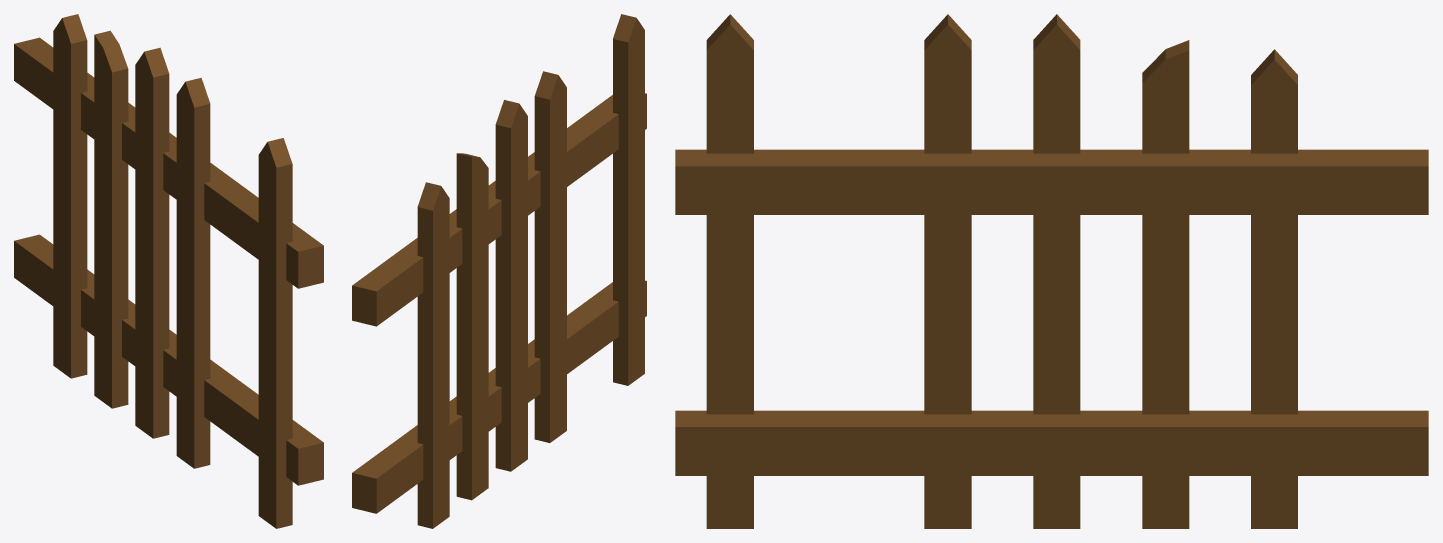
Rendered from Fence 11.fbx.
3 renders of one model, left to right at view 1: azimuth 30°, elevation 25°; view 2: azimuth 150°, elevation 25°; view 3: azimuth 270°, elevation 25°, orthographic. The views are drawn at different scales.
Visible parts, largest first — view 1: Fence_11; view 2: Fence_11; view 3: Fence_11.
Part boxes in pixels (x1=…): Fence_11: x1=14, y1=14, x2=323, y2=528; Fence_11: x1=352, y1=14, x2=646, y2=528; Fence_11: x1=675, y1=14, x2=1428, y2=528.
Bounding box in the file's own units: 16.01 × 163 × 221.
Materials: 1 (1 with a texture image).
